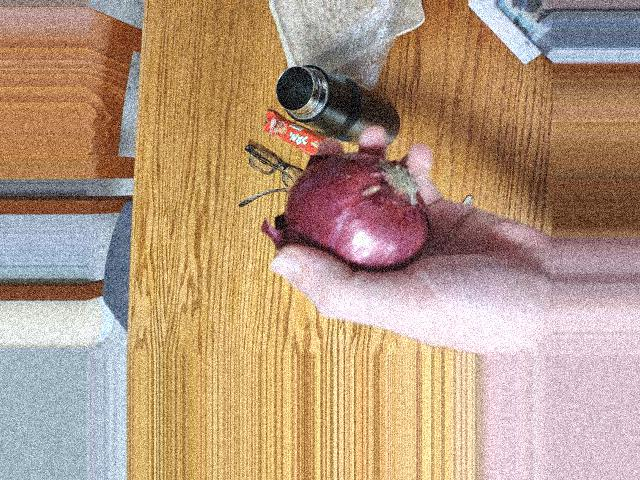onion: (299, 170, 420, 287)
